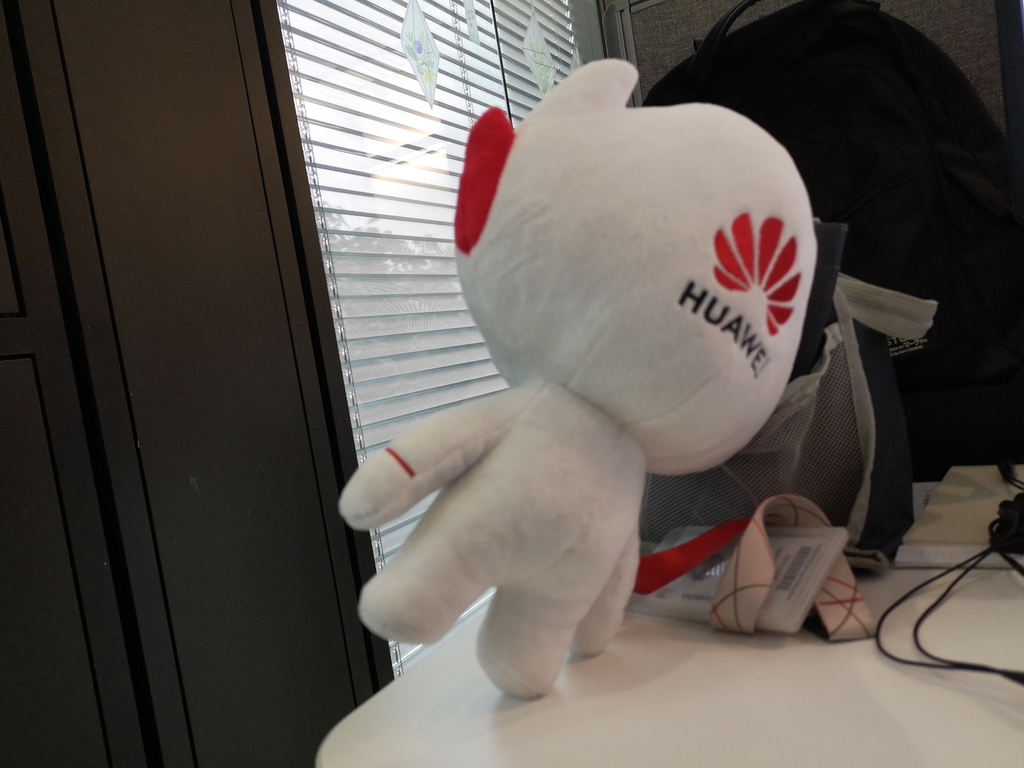yunbao: (339, 34, 823, 704)
